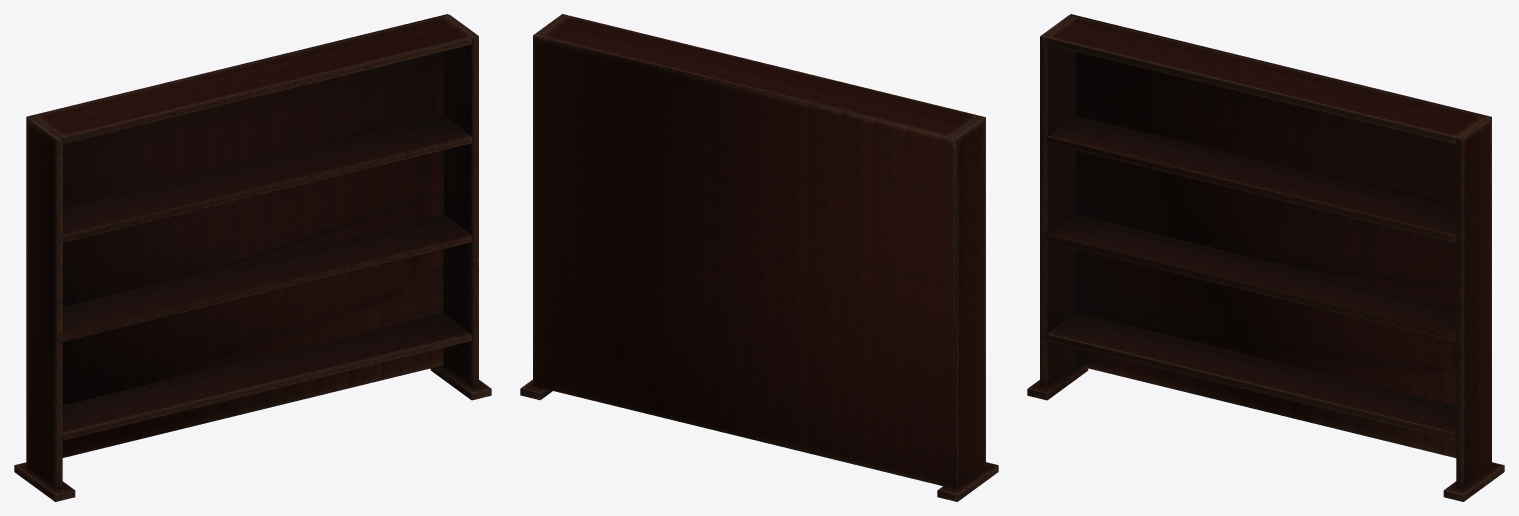
Rendered from shelf.glb.
3 views of the same model, side by side, from view 1: azimuth 30°, elevation 25°; view 2: azimuth 150°, elevation 25°; view 3: azimuth 330°, elevation 25° (orthographic).
Parts seen in each view (by area): view 1: Mat_Stand-material; view 2: Mat_Stand-material; view 3: Mat_Stand-material.
Boxes of the visible parts, x1=… form: Mat_Stand-material: x1=14, y1=14, x2=491, y2=501; Mat_Stand-material: x1=520, y1=14, x2=998, y2=501; Mat_Stand-material: x1=1027, y1=14, x2=1504, y2=501.
Size of the model in its own units: 1.28 by 1 by 0.21.
Materials: 1 (1 with a texture image).
